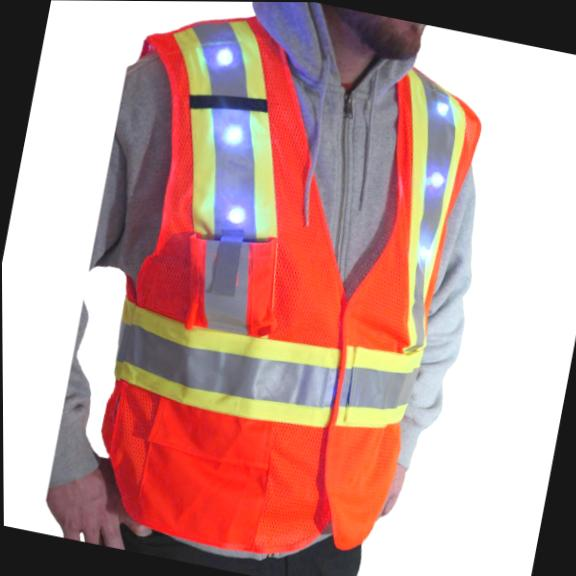safety_vest: (48, 0, 497, 576)
